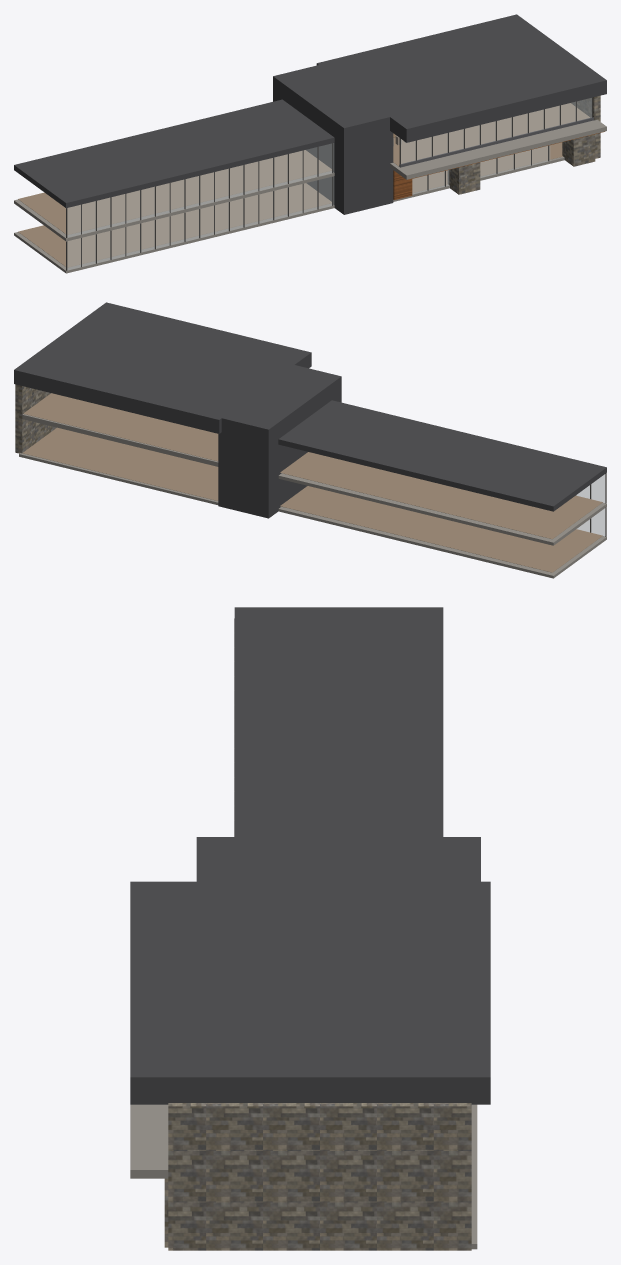
File: reality.glb
3 views of the same model, one above another, from view 1: azimuth 30°, elevation 25°; view 2: azimuth 150°, elevation 25°; view 3: azimuth 270°, elevation 25° (orthographic). The views are drawn at different scales.
Parts seen in each view (by area): view 1: B_clad, B_floor, B_glass, B_concrete, B_metal, B_stone, B_spandrel, B_timber; view 2: B_clad, B_floor, B_concrete, B_stone, B_glass; view 3: B_clad, B_stone, B_concrete.
Part boxes in pixels (x1,y1,x2,y2): B_clad: [14, 14, 606, 214]; B_floor: [18, 103, 589, 267]; B_glass: [67, 98, 591, 269]; B_concrete: [14, 120, 606, 273]; B_metal: [66, 97, 592, 270]; B_stone: [447, 95, 600, 194]; B_spandrel: [399, 117, 593, 167]; B_timber: [393, 131, 604, 199]; B_clad: [14, 302, 606, 518]; B_floor: [22, 393, 602, 572]; B_concrete: [19, 414, 606, 578]; B_stone: [15, 384, 56, 453]; B_glass: [576, 474, 604, 536]; B_clad: [130, 607, 490, 1104]; B_stone: [164, 1103, 471, 1250]; B_concrete: [130, 1104, 477, 1249].
Bounding box in the file's own units: 63.1 × 10.1 × 19.
Materials: 11 (2 with a texture image).
